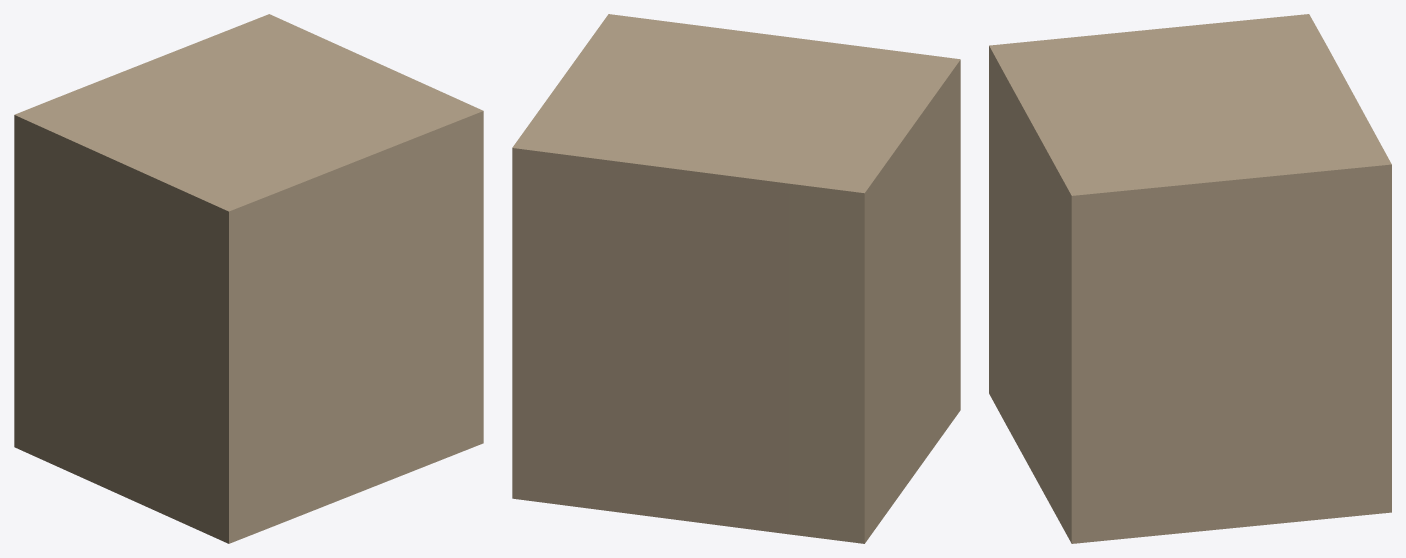
Rendered from bld_99872196.dae.
3 views of the same model, side by side, from view 1: azimuth 30°, elevation 25°; view 2: azimuth 150°, elevation 25°; view 3: azimuth 270°, elevation 25° (orthographic). The views are drawn at different scales.
Parts seen in each view (by area): view 1: bld_99872196; view 2: bld_99872196; view 3: bld_99872196.
Part boxes in pixels (bbox=[...]): bld_99872196: bbox=[14, 14, 483, 543]; bld_99872196: bbox=[512, 14, 960, 543]; bld_99872196: bbox=[989, 14, 1391, 543].
Size of the model in its own units: 8.97 by 8.39 by 8.
